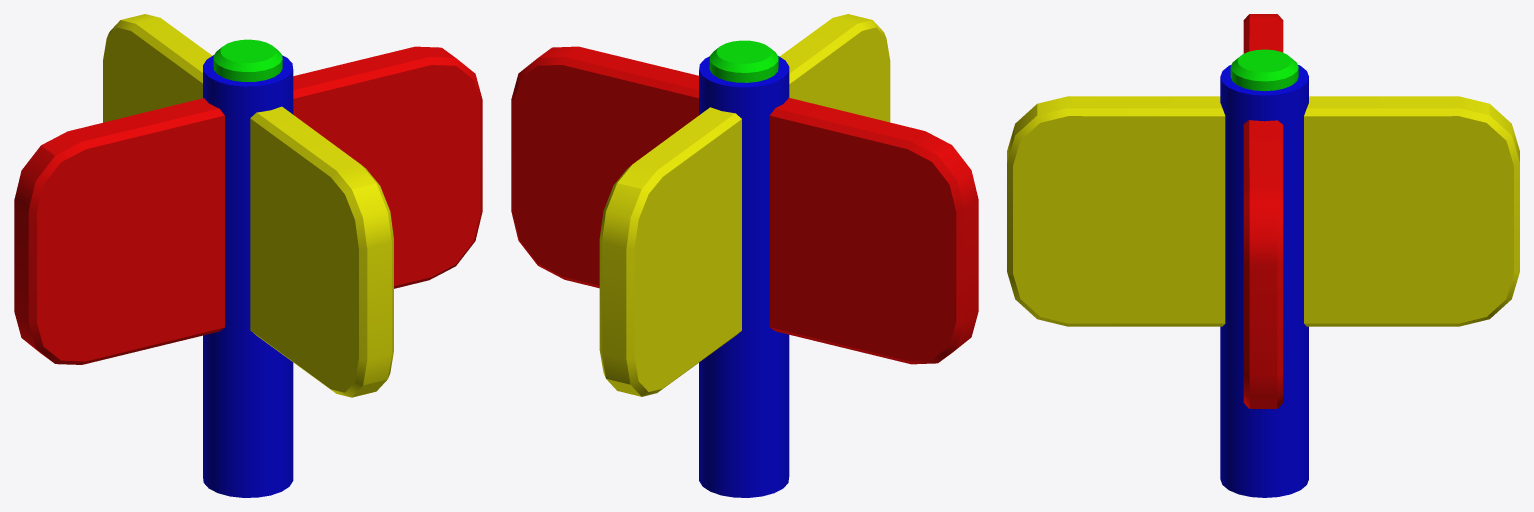
The model's file is engel.fbx.
3 renders of one model, left to right at view 1: azimuth 30°, elevation 25°; view 2: azimuth 150°, elevation 25°; view 3: azimuth 270°, elevation 25°, orthographic. The views are drawn at different scales.
Visible parts, largest first — view 1: pCylinder68; view 2: pCylinder68; view 3: pCylinder68.
Part boxes in pixels (x1,y1,x2,y2): pCylinder68: (14,14,482,497); pCylinder68: (511,14,978,497); pCylinder68: (1007,14,1519,497).
Bounding box in the file's own units: 60.36 × 54.31 × 60.36.
